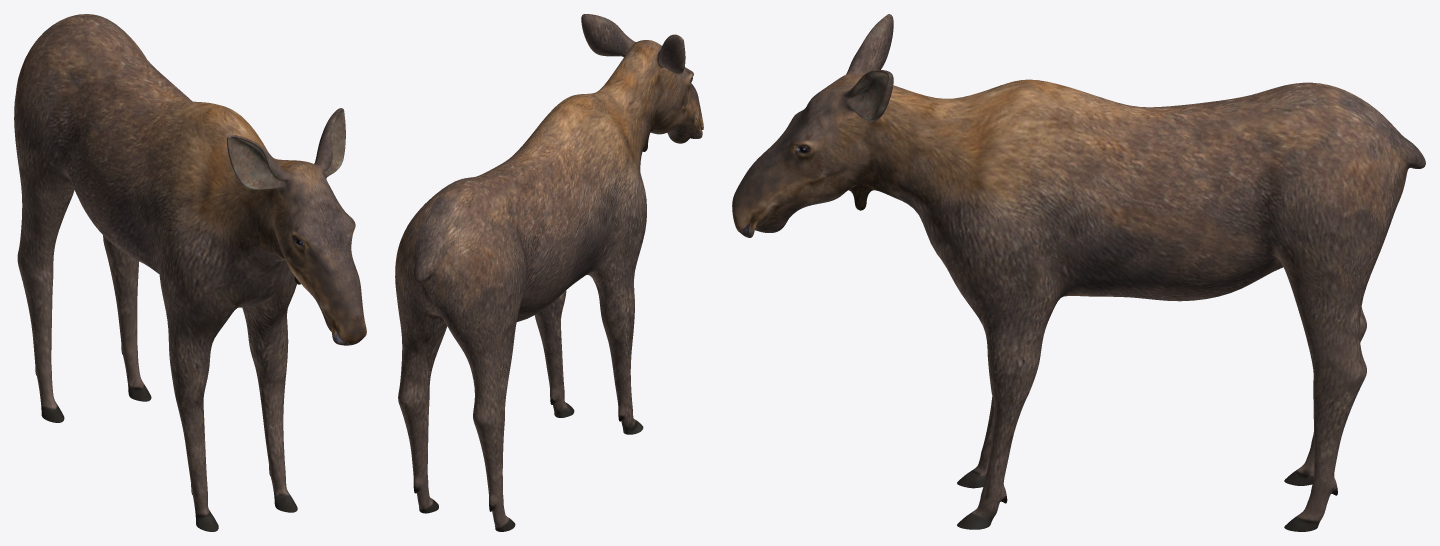
File: moose.obj
3 renders of one model, left to right at view 1: azimuth 30°, elevation 25°; view 2: azimuth 150°, elevation 25°; view 3: azimuth 270°, elevation 25°, orthographic. The views are drawn at different scales.
Visible parts, largest first — view 1: 12959_Moose_Female_v1_l3; view 2: 12959_Moose_Female_v1_l3; view 3: 12959_Moose_Female_v1_l3.
Boxes of the visible parts, x1,y1,x2,y2 form: 12959_Moose_Female_v1_l3: [14, 14, 366, 531]; 12959_Moose_Female_v1_l3: [395, 14, 703, 531]; 12959_Moose_Female_v1_l3: [732, 14, 1425, 531].
Size of the model in its own units: 2.69 by 8.49 by 11.58.
Materials: 1 (1 with a texture image).
